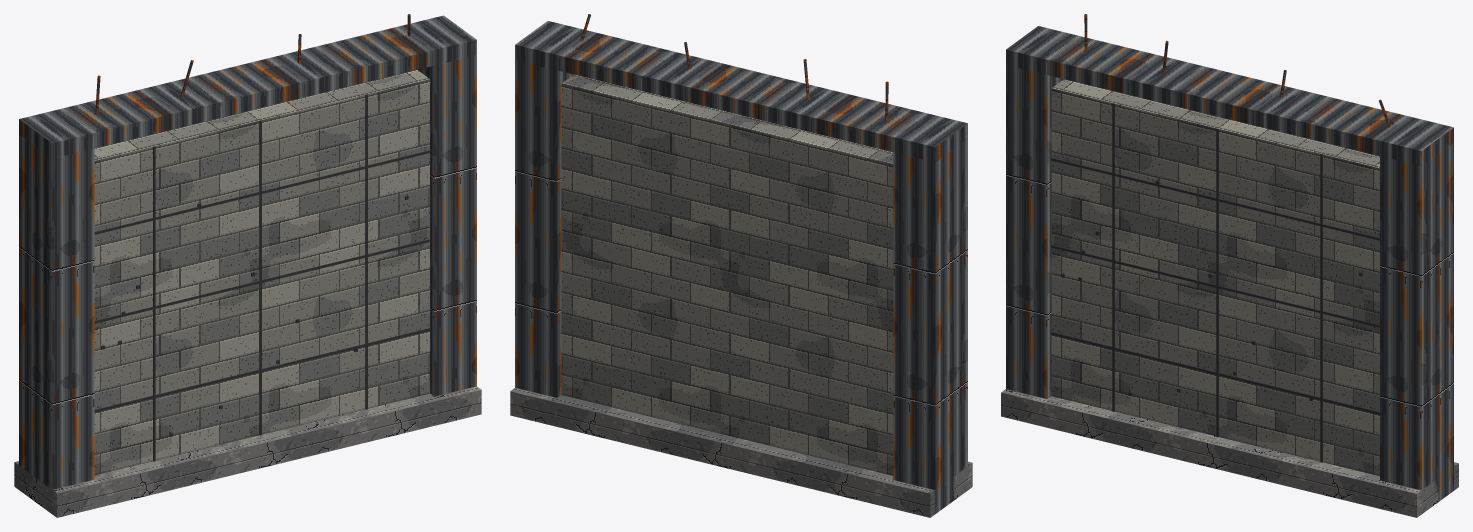
File: DST_ConcreteWall_4m.glb
3 views of the same model, side by side, from view 1: azimuth 30°, elevation 25°; view 2: azimuth 150°, elevation 25°; view 3: azimuth 330°, elevation 25° (orthographic). The views are drawn at different scales.
Visible parts, largest first — view 1: Panel, Pilaster, Coping, Pilaster.001, Footing, Seam, Seam.002, Seam.001, SeamV.001, SeamV.002, SeamV; view 2: Panel, Pilaster, Coping, Pilaster.001, Footing; view 3: Panel, Pilaster.001, Coping, Pilaster, Footing, Seam, Seam.002, Seam.001, SeamV.002, SeamV.001, SeamV.
Boxes of the visible parts, x1=… form: Panel: x1=94, y1=70, x2=429, y2=475; Pilaster: x1=19, y1=135, x2=94, y2=489; Coping: x1=19, y1=15, x2=476, y2=158; Pilaster.001: x1=417, y1=55, x2=476, y2=396; Footing: x1=14, y1=386, x2=481, y2=517; Seam: x1=94, y1=328, x2=430, y2=412; Seam.002: x1=94, y1=150, x2=430, y2=234; Seam.001: x1=94, y1=239, x2=430, y2=323; SeamV.001: x1=259, y1=120, x2=261, y2=435; SeamV.002: x1=365, y1=94, x2=367, y2=409; SeamV: x1=153, y1=146, x2=155, y2=461; Panel: x1=561, y1=74, x2=893, y2=475; Pilaster: x1=893, y1=139, x2=967, y2=513; Coping: x1=515, y1=21, x2=967, y2=162; Pilaster.001: x1=515, y1=60, x2=573, y2=397; Footing: x1=510, y1=388, x2=972, y2=517; Panel: x1=1051, y1=79, x2=1379, y2=475; Pilaster.001: x1=1380, y1=143, x2=1453, y2=501; Coping: x1=1006, y1=26, x2=1453, y2=166; Pilaster: x1=1006, y1=65, x2=1063, y2=398; Footing: x1=1001, y1=389, x2=1458, y2=517; Seam: x1=1051, y1=332, x2=1379, y2=414; Seam.002: x1=1051, y1=158, x2=1379, y2=240; Seam.001: x1=1051, y1=245, x2=1379, y2=327; SeamV.002: x1=1320, y1=154, x2=1322, y2=462; SeamV.001: x1=1216, y1=128, x2=1218, y2=437; SeamV: x1=1112, y1=103, x2=1114, y2=411.
Bounding box in the file's own units: 4 × 3.69 × 0.7.
5 materials, 4 textured.
